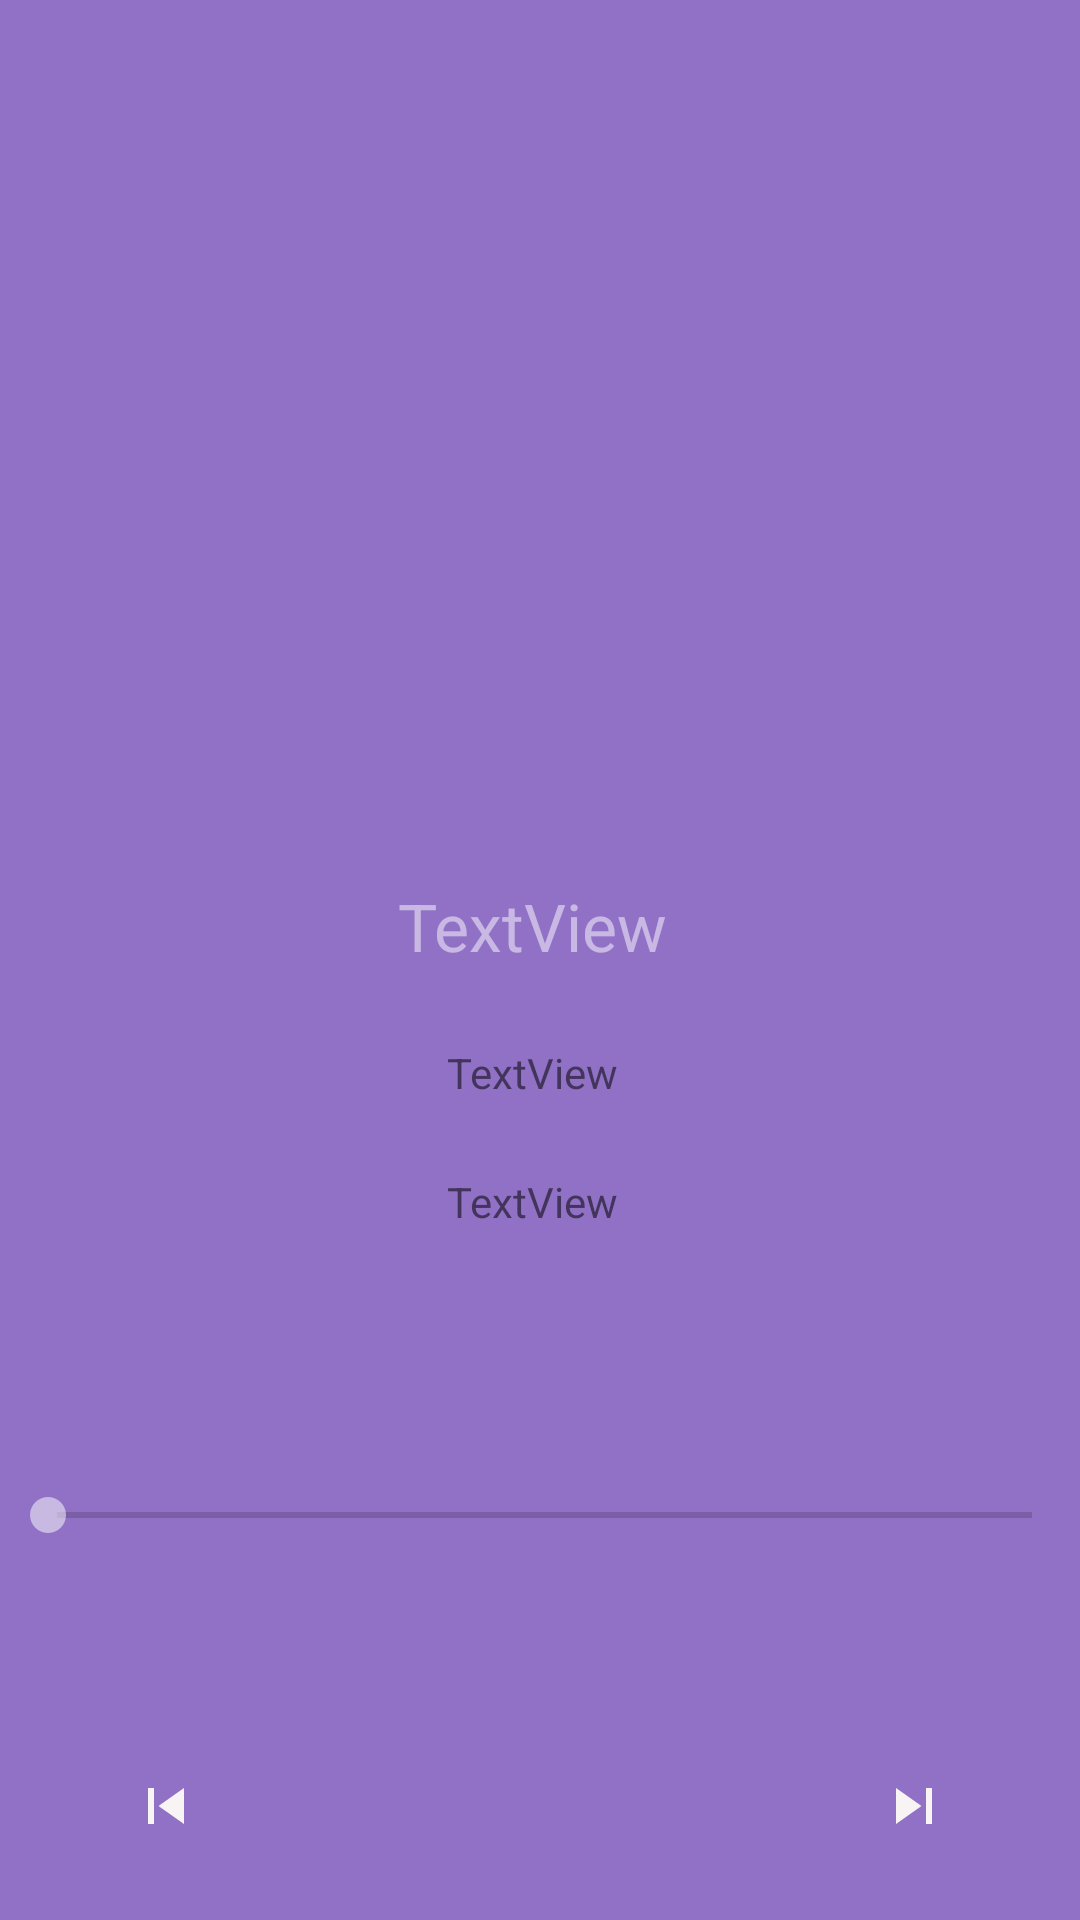

Screen size 1080 × 1920. Icon name, then its center in pixels as point (x, y):
next: point (914, 1806)
prev: point (166, 1806)
